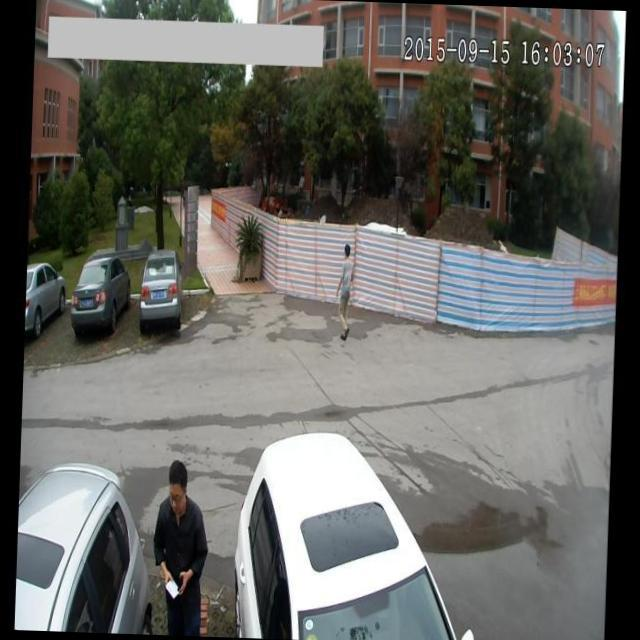person: (147, 455, 210, 636), (330, 238, 360, 344)
